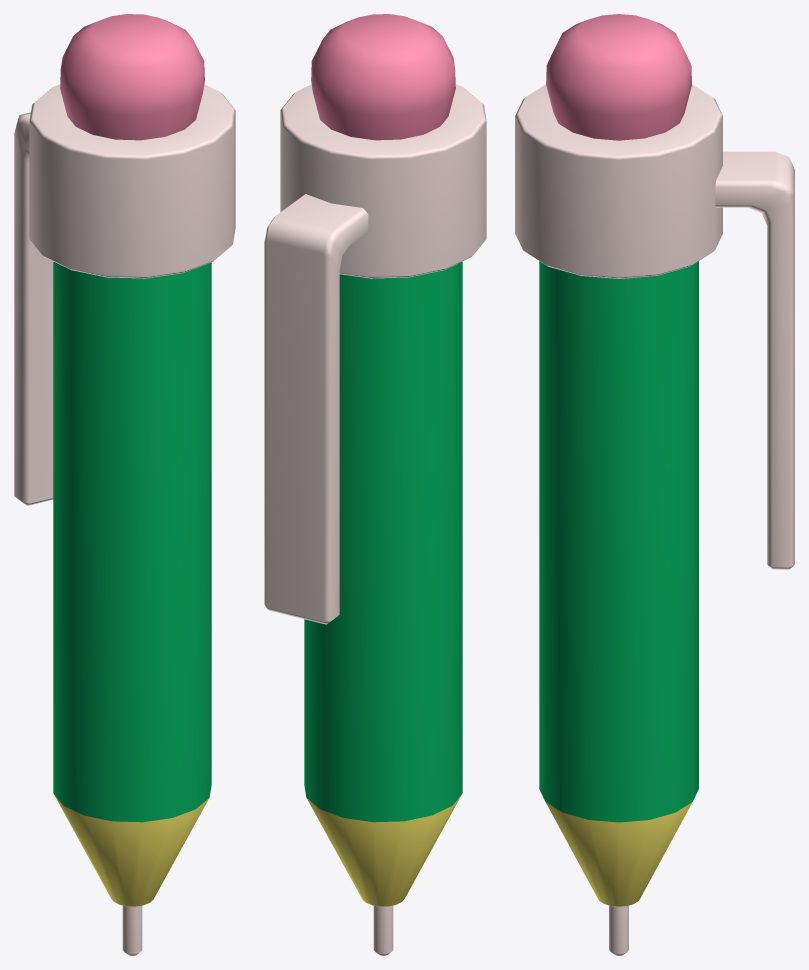
File: Public_8_Pen_1.glb
3 renders of one model, left to right at view 1: azimuth 30°, elevation 25°; view 2: azimuth 150°, elevation 25°; view 3: azimuth 270°, elevation 25°, orthographic.
Parts seen in each view (by area): view 1: Public_8_Pen_1; view 2: Public_8_Pen_1; view 3: Public_8_Pen_1.
Boxes of the visible parts, left/top/right/bottom form: Public_8_Pen_1: left=14, top=14, right=235, bottom=955; Public_8_Pen_1: left=264, top=14, right=486, bottom=955; Public_8_Pen_1: left=515, top=14, right=794, bottom=955.
Size of the model in its own units: 0.2666 by 1.3 by 0.3586.
Materials: 1 (1 with a texture image).
